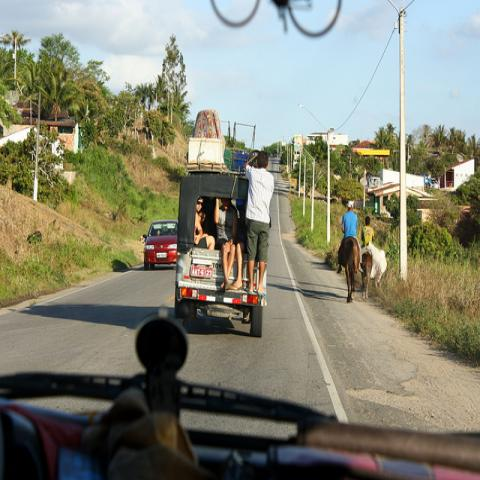car: (144, 221, 178, 269)
truck: (176, 173, 267, 336)
